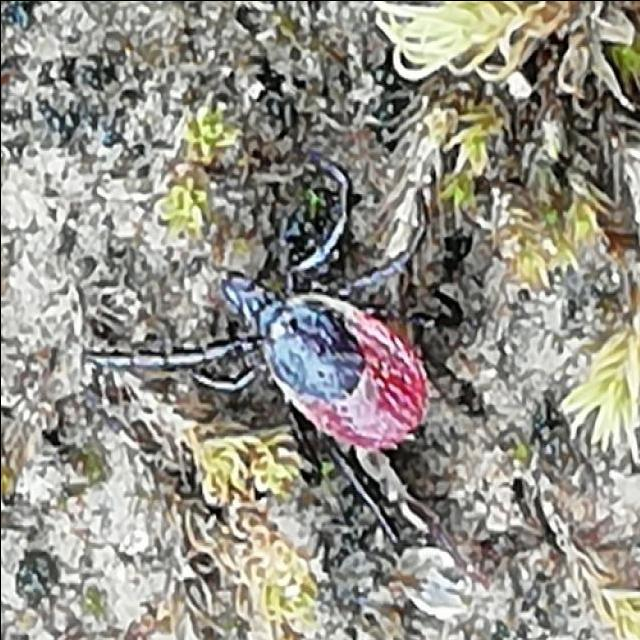Ixodes Ricinus-F: (83, 151, 429, 555)
